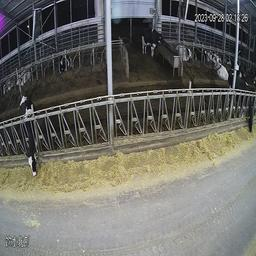cow: (18, 94, 42, 184), (230, 71, 253, 139), (139, 26, 165, 64), (213, 50, 229, 84), (178, 37, 195, 68), (56, 51, 72, 78)
